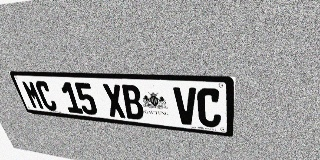1: (58, 82, 83, 114)
5: (74, 82, 99, 115)
B: (120, 84, 145, 120)
C: (197, 88, 221, 128), (34, 81, 59, 111)
M: (21, 80, 45, 110)
V: (173, 87, 197, 126)
X: (102, 84, 127, 118)
